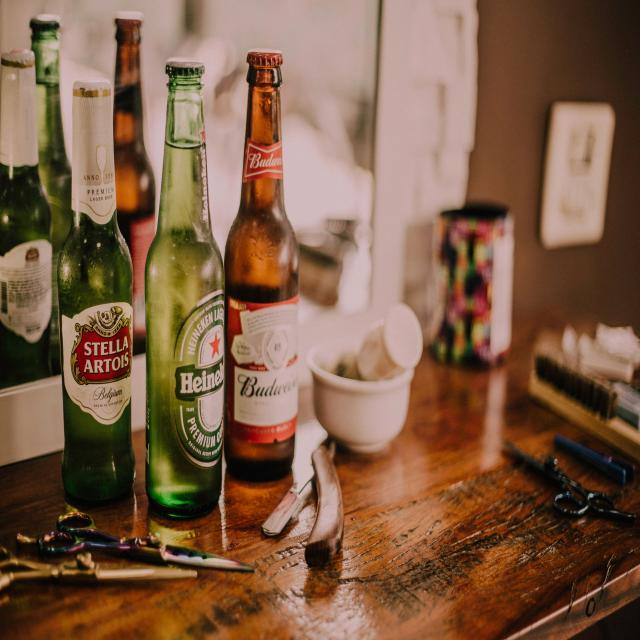Bottle: (146, 59, 224, 516), (59, 80, 134, 501), (225, 50, 298, 480), (0, 50, 51, 388), (30, 15, 72, 374), (114, 12, 155, 354)
